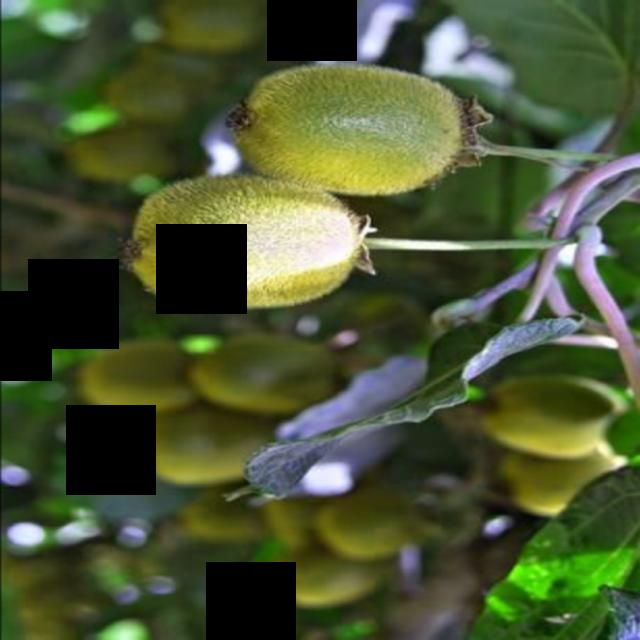kiwi: (220, 58, 496, 206), (107, 167, 371, 317), (180, 330, 354, 420), (136, 399, 292, 492), (74, 327, 220, 426), (473, 371, 619, 462), (487, 438, 633, 522), (305, 472, 432, 561), (267, 542, 398, 616)
